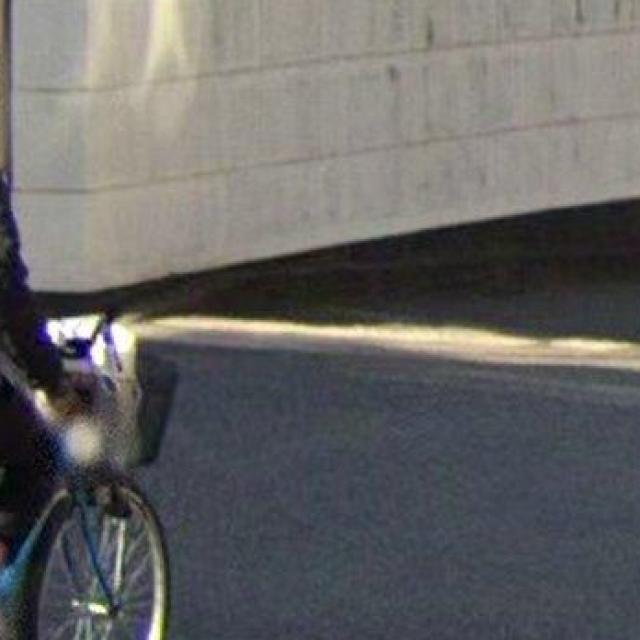bicycle: (1, 468, 170, 640)
